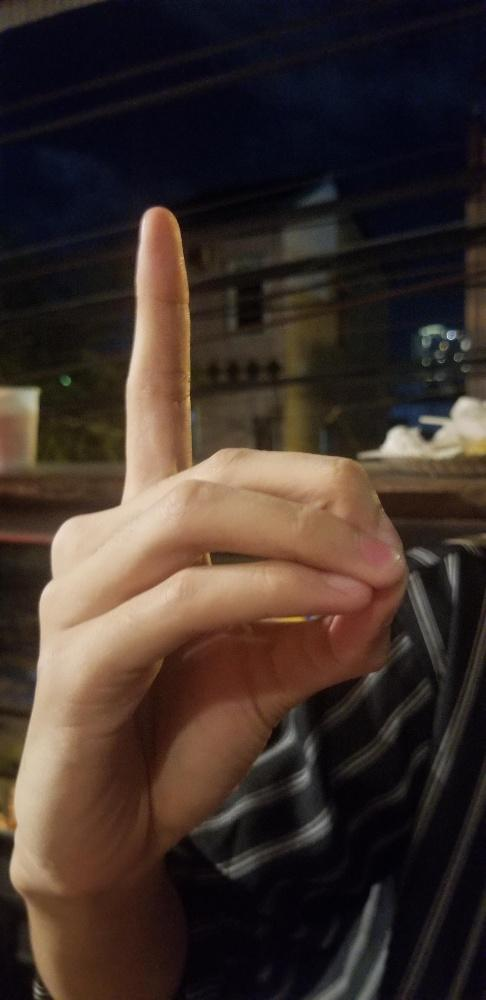d: (6, 198, 411, 895)
